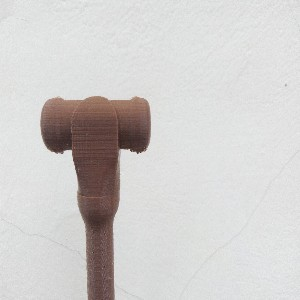palu: (39, 95, 152, 300)
